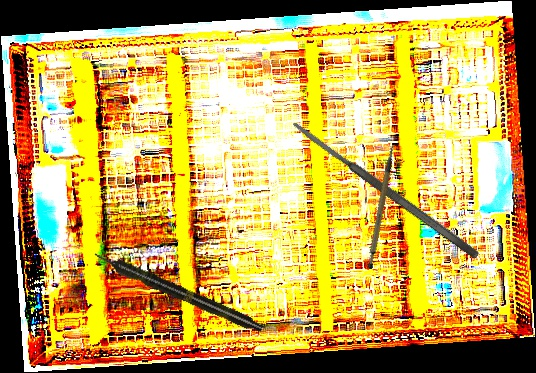Handpiece: (91, 246, 265, 337)
Scalpel Handle: (351, 145, 414, 271)
Spatula Surgical: (289, 117, 481, 261)
